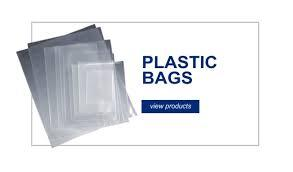Zip plastic bag: (17, 17, 146, 154)
